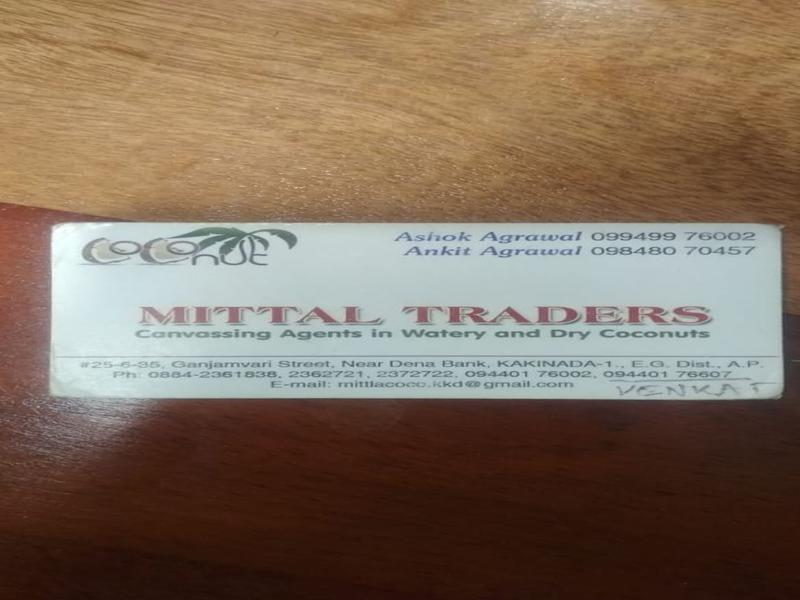card: (48, 222, 783, 399)
